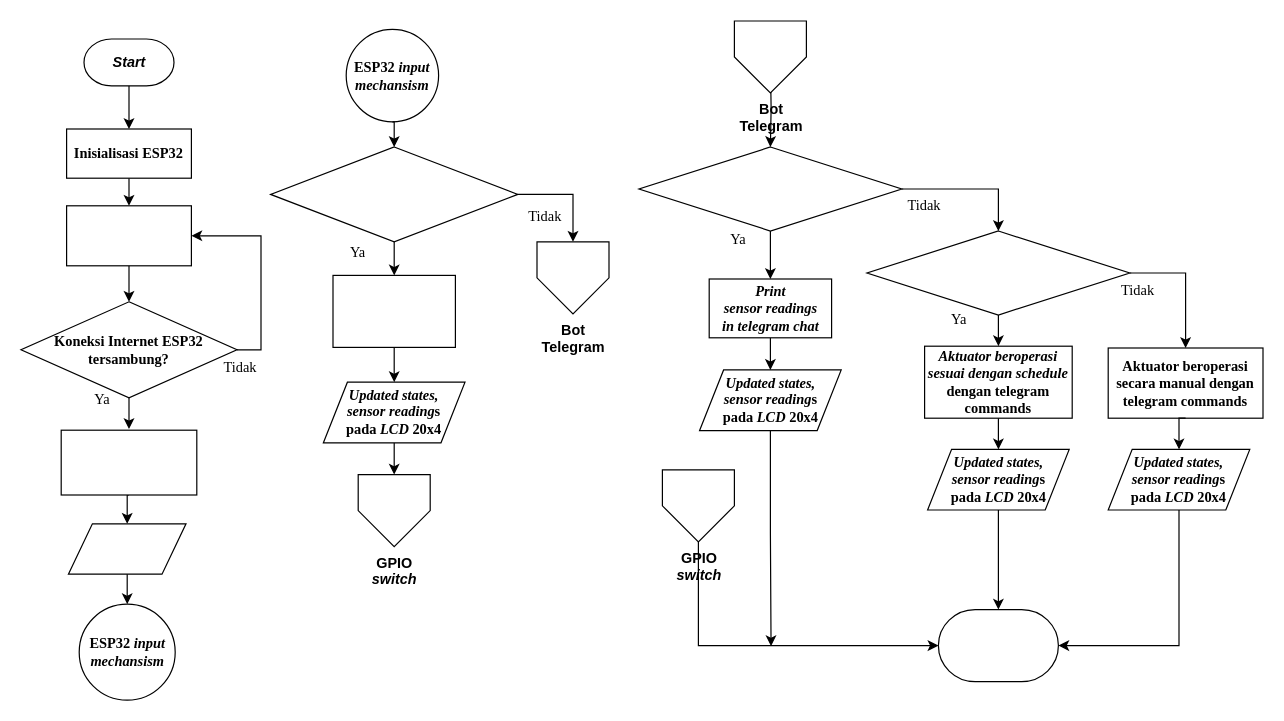
The diagram is 1284 pixels wide and 721 high, and some of its shapes have lost their labels. The shapes that lost their labels are listed below. From the top down, each one's centre as x and y in pixels, then its label:
At point (393, 194): "Take over conditions (Enable switch)".
At point (770, 188): "Sensor readings commands".
At point (128, 235): "Menghubungkan ESP32 ke WiFi".
At point (998, 272): "Scheduled Switch commands".
At point (393, 310): "Aktuator beroperasi secara manual dengan toggle switch".
At point (128, 462): "ESP32 membaca sensor readings ( temp , humi , lux )".
At point (126, 548): "User input".
At point (997, 645): "Stop".
